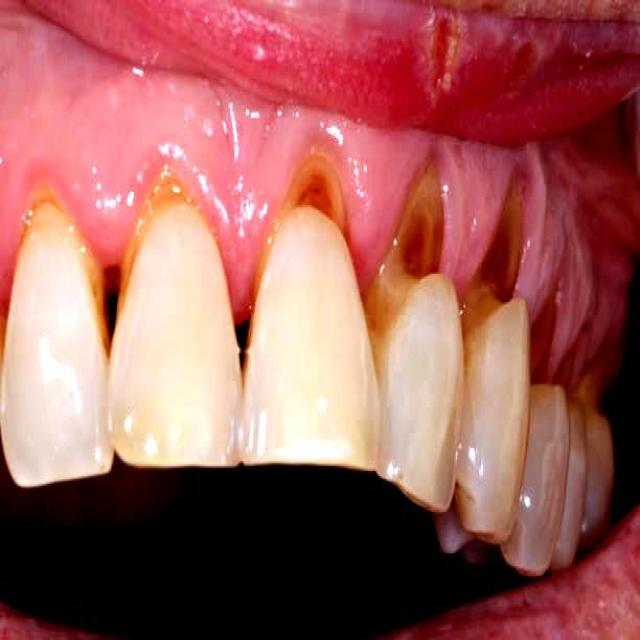caries: (366, 155, 454, 363), (30, 173, 114, 350), (112, 152, 197, 307), (263, 142, 357, 278), (458, 165, 525, 344), (516, 288, 561, 413), (558, 319, 602, 420)
